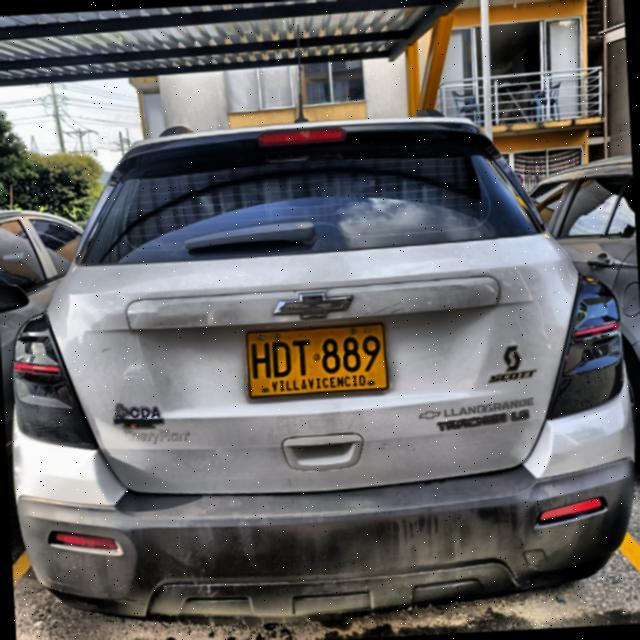plate: (246, 324, 388, 396)
